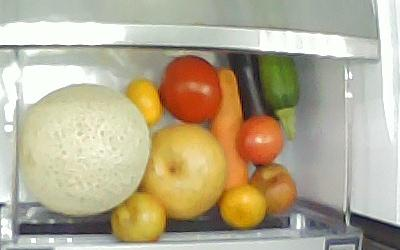carrot: (208, 66, 249, 188)
eggplant: (227, 51, 280, 123)
melon: (21, 82, 150, 216)
pear: (139, 122, 225, 219)
prune: (110, 192, 166, 242), (248, 162, 297, 214), (234, 114, 284, 164)
tangerine: (218, 184, 266, 228), (125, 76, 161, 126)
tomato: (157, 54, 221, 123)
zucchini: (257, 53, 300, 141)
